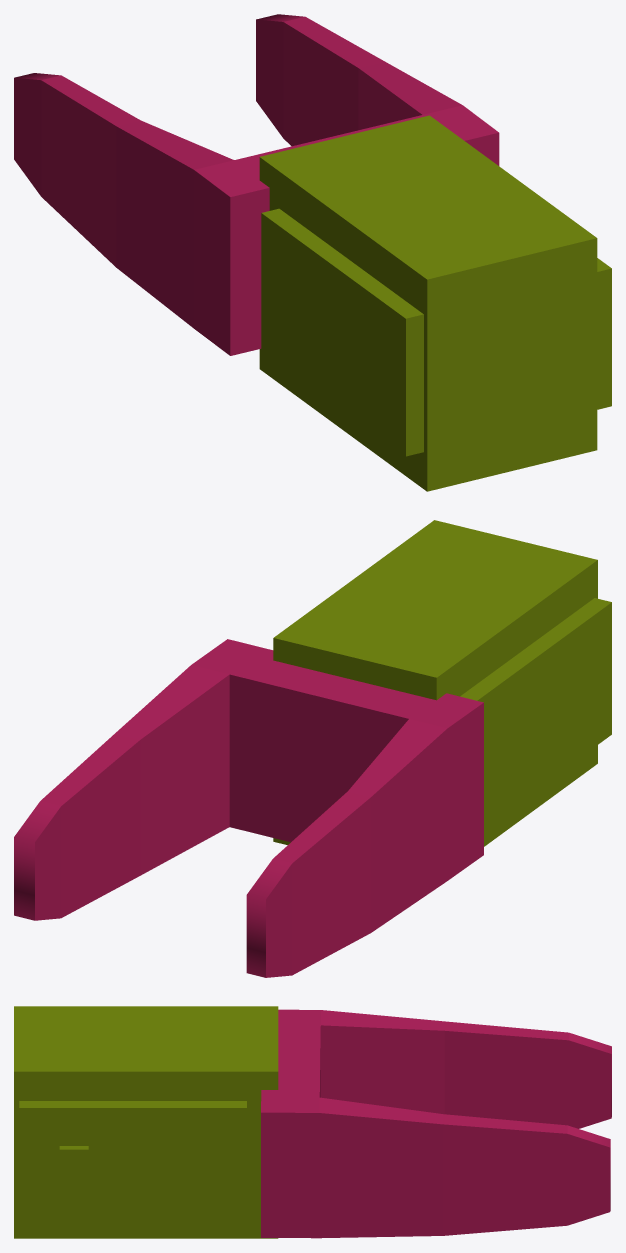
File: part_16_opt_2.obj
The picture shows the model from 3 angles, top to bottom: view 1: azimuth 30°, elevation 25°; view 2: azimuth 150°, elevation 25°; view 3: azimuth 270°, elevation 25°; orthographic projection. The views are drawn at different scales.
Visible parts, largest first — view 1: Box007, Box008; view 2: Box008, Box007; view 3: Box008, Box007.
Boxes of the visible parts, x1,y1,x2,y2 form: Box007: [259, 115, 611, 491]; Box008: [14, 14, 499, 355]; Box008: [14, 639, 483, 977]; Box007: [273, 520, 611, 846]; Box008: [261, 1009, 611, 1238]; Box007: [14, 1006, 278, 1238].
Size of the model in its own units: 46.94 by 35.31 by 114.
